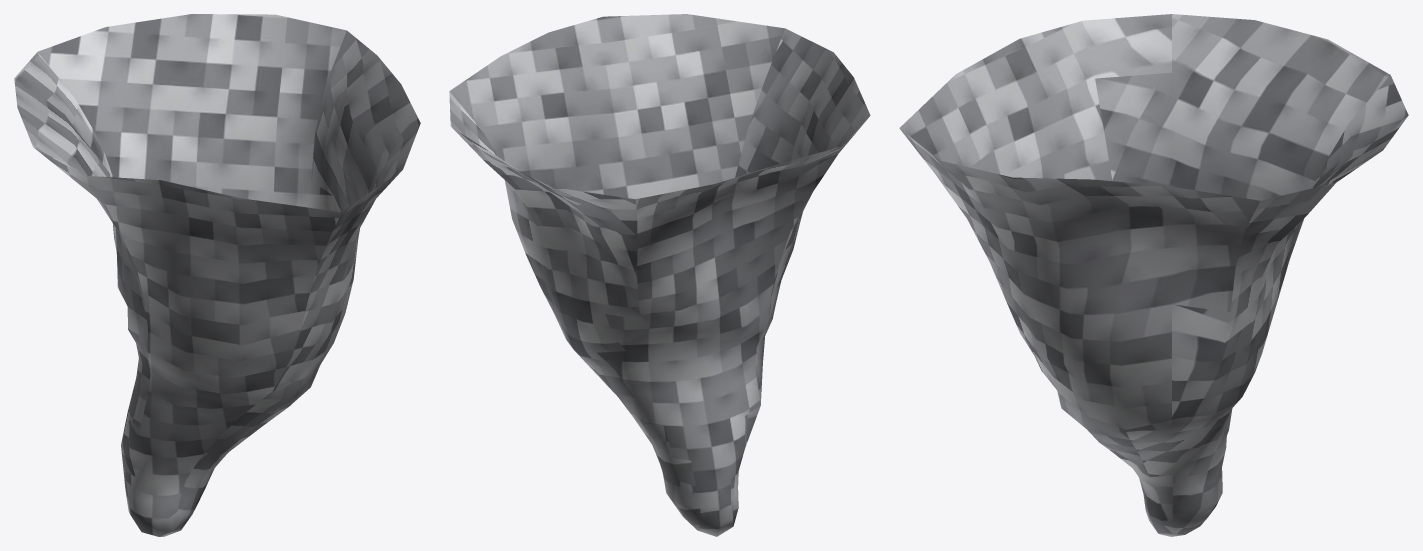
File: Stalactite 02.fbx
The picture shows the model from 3 angles, left to right: view 1: azimuth 30°, elevation 25°; view 2: azimuth 150°, elevation 25°; view 3: azimuth 270°, elevation 25°; orthographic projection. The views are drawn at different scales.
Parts seen in each view (by area): view 1: Stalactite.002; view 2: Stalactite.002; view 3: Stalactite.002.
Part boxes in pixels (box(x1,y1,x2,y2)): Stalactite.002: box(14, 14, 420, 536); Stalactite.002: box(449, 14, 870, 536); Stalactite.002: box(899, 14, 1408, 536).
Bounding box in the file's own units: 1.8 × 1.81 × 1.56.
